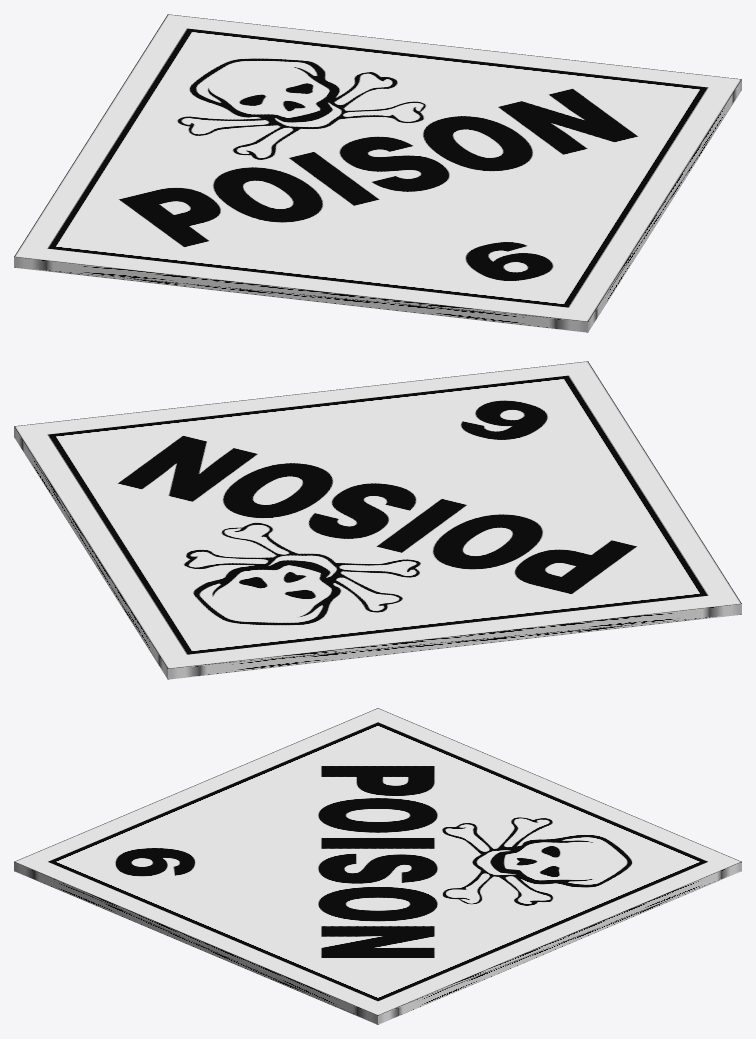
Rendered from hazmat_poison.dae.
3 views of the same model, one above another, from view 1: azimuth 30°, elevation 25°; view 2: azimuth 150°, elevation 25°; view 3: azimuth 270°, elevation 25° (orthographic). The views are drawn at different scales.
Visible parts, largest first — view 1: Sign_Material.019; view 2: Sign_Material.019; view 3: Sign_Material.019.
Boxes of the visible parts, x1,y1,x2,y2 form: Sign_Material.019: (14, 14, 741, 332); Sign_Material.019: (14, 361, 741, 679); Sign_Material.019: (14, 708, 741, 1024).
Bounding box in the file's own units: 0.1414 × 0.1414 × 0.002.
Materials: 1 (1 with a texture image).
